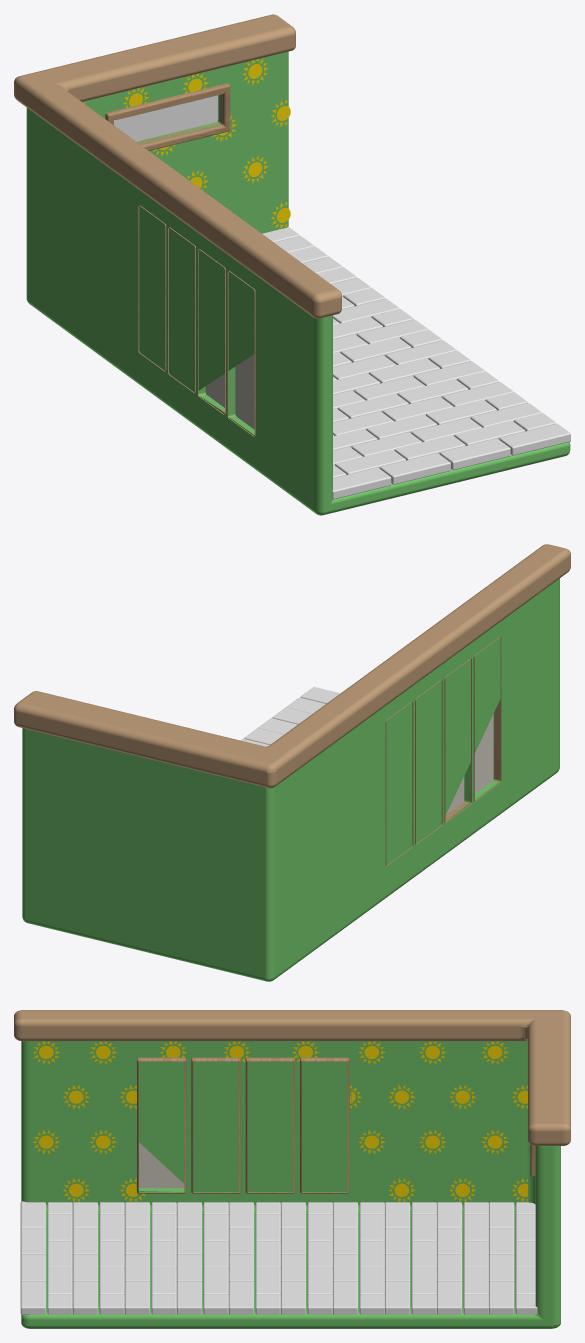
Rendered from Invernadero Verano.fbx.
3 views of the same model, one above another, from view 1: azimuth 30°, elevation 25°; view 2: azimuth 150°, elevation 25°; view 3: azimuth 270°, elevation 25° (orthographic). The views are drawn at different scales.
Visible parts, largest first — view 1: Parede Verano, Plane, Paredes.003, Ventana 2, Vidrio 2, Ventanas, Papel verano, Ventanas.001; view 2: Parede Verano, Paredes.003, Ventanas, Plane, Ventanas.001; view 3: Parede Verano, Plane, Paredes.003, Papel verano, Ventanas, Ventanas.001.
Part boxes in pixels (bbox=[...]): Parede Verano: bbox=[26, 51, 570, 515]; Plane: bbox=[262, 227, 570, 499]; Paredes.003: bbox=[14, 14, 341, 318]; Ventana 2: bbox=[105, 83, 230, 150]; Vidrio 2: bbox=[114, 95, 218, 141]; Ventanas: bbox=[138, 205, 255, 436]; Papel verano: bbox=[84, 59, 290, 228]; Ventanas.001: bbox=[205, 354, 254, 429]; Parede Verano: bbox=[22, 578, 559, 981]; Paredes.003: bbox=[14, 544, 570, 788]; Ventanas: bbox=[385, 637, 501, 865]; Plane: bbox=[241, 687, 340, 746]; Ventanas.001: bbox=[446, 714, 493, 814]; Parede Verano: bbox=[21, 1041, 560, 1328]; Plane: bbox=[20, 1201, 537, 1314]; Paredes.003: bbox=[14, 1010, 570, 1145]; Papel verano: bbox=[33, 1041, 527, 1202]; Ventanas: bbox=[137, 1057, 349, 1193]; Ventanas.001: bbox=[139, 1142, 184, 1187].
Size of the model in its own units: 402 by 328 by 802.
Materials: 9 (4 with a texture image).
